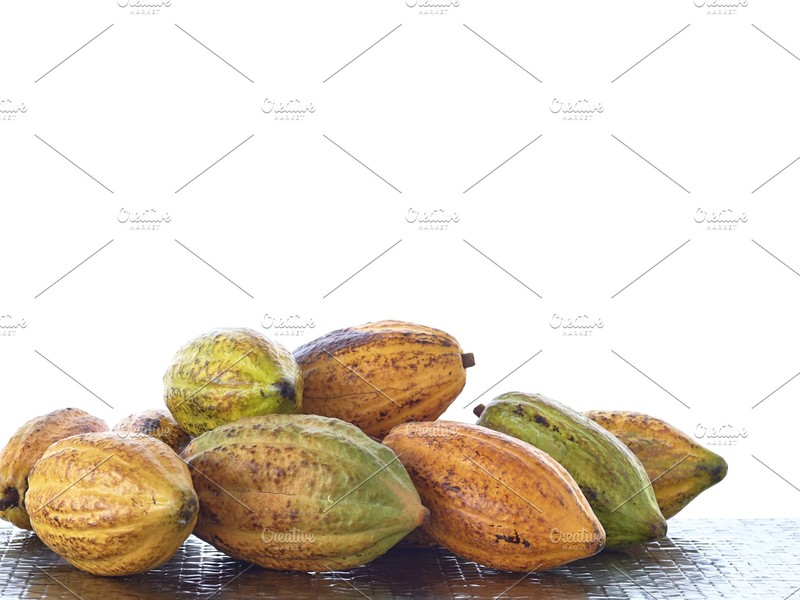Cacaopod: (183, 410, 433, 577)
